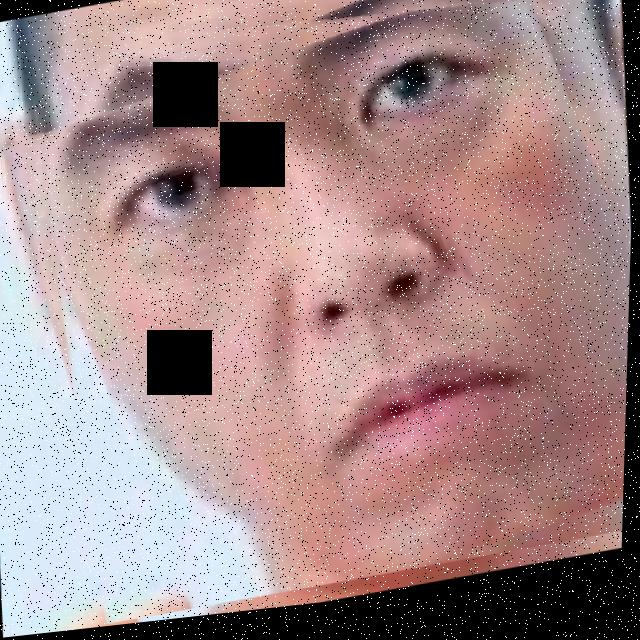anger: (11, 0, 640, 638)
